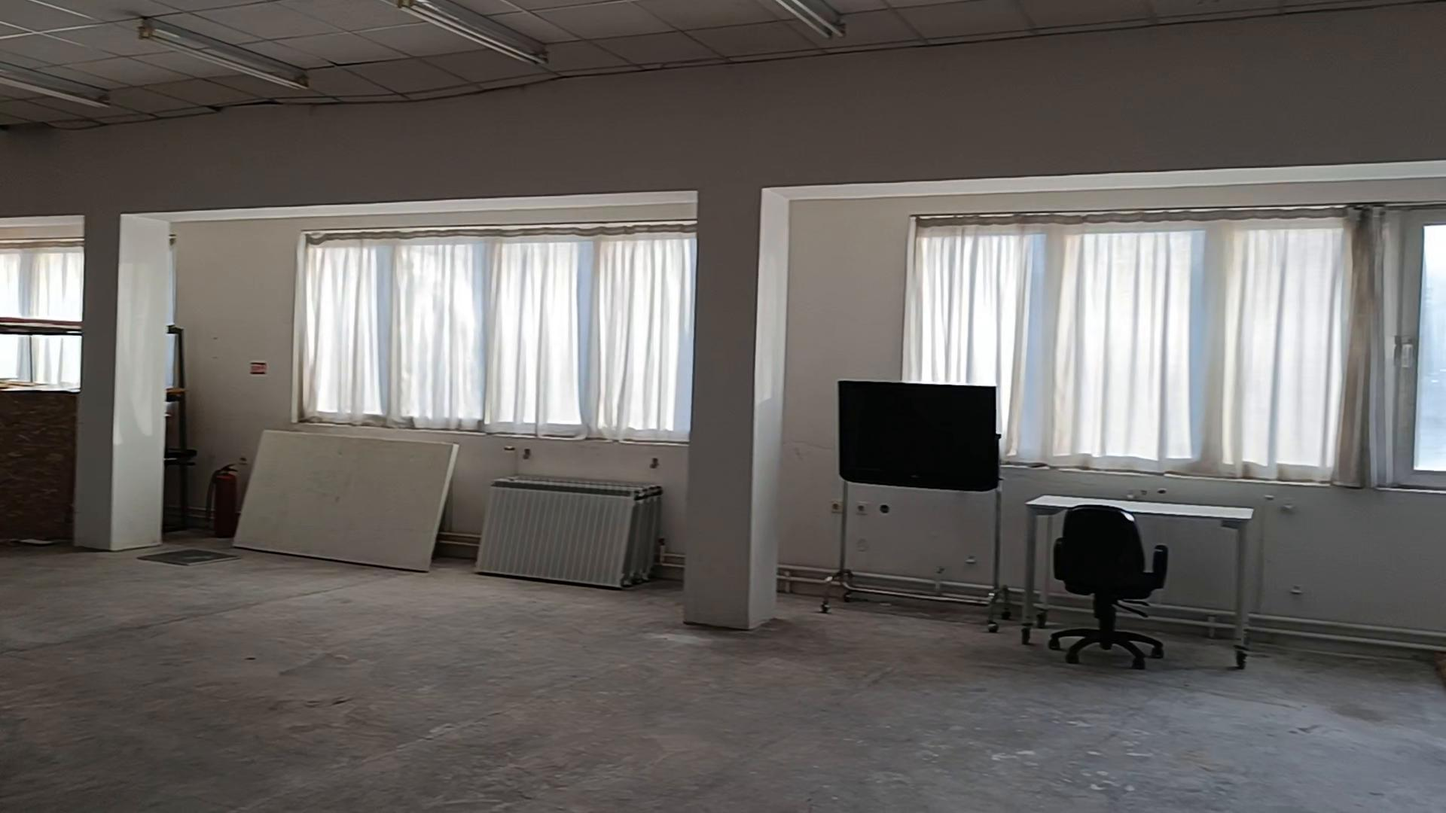ceiling: (0, 0, 1423, 128)
floor: (0, 547, 1445, 812)
wall: (4, 13, 1445, 620)
